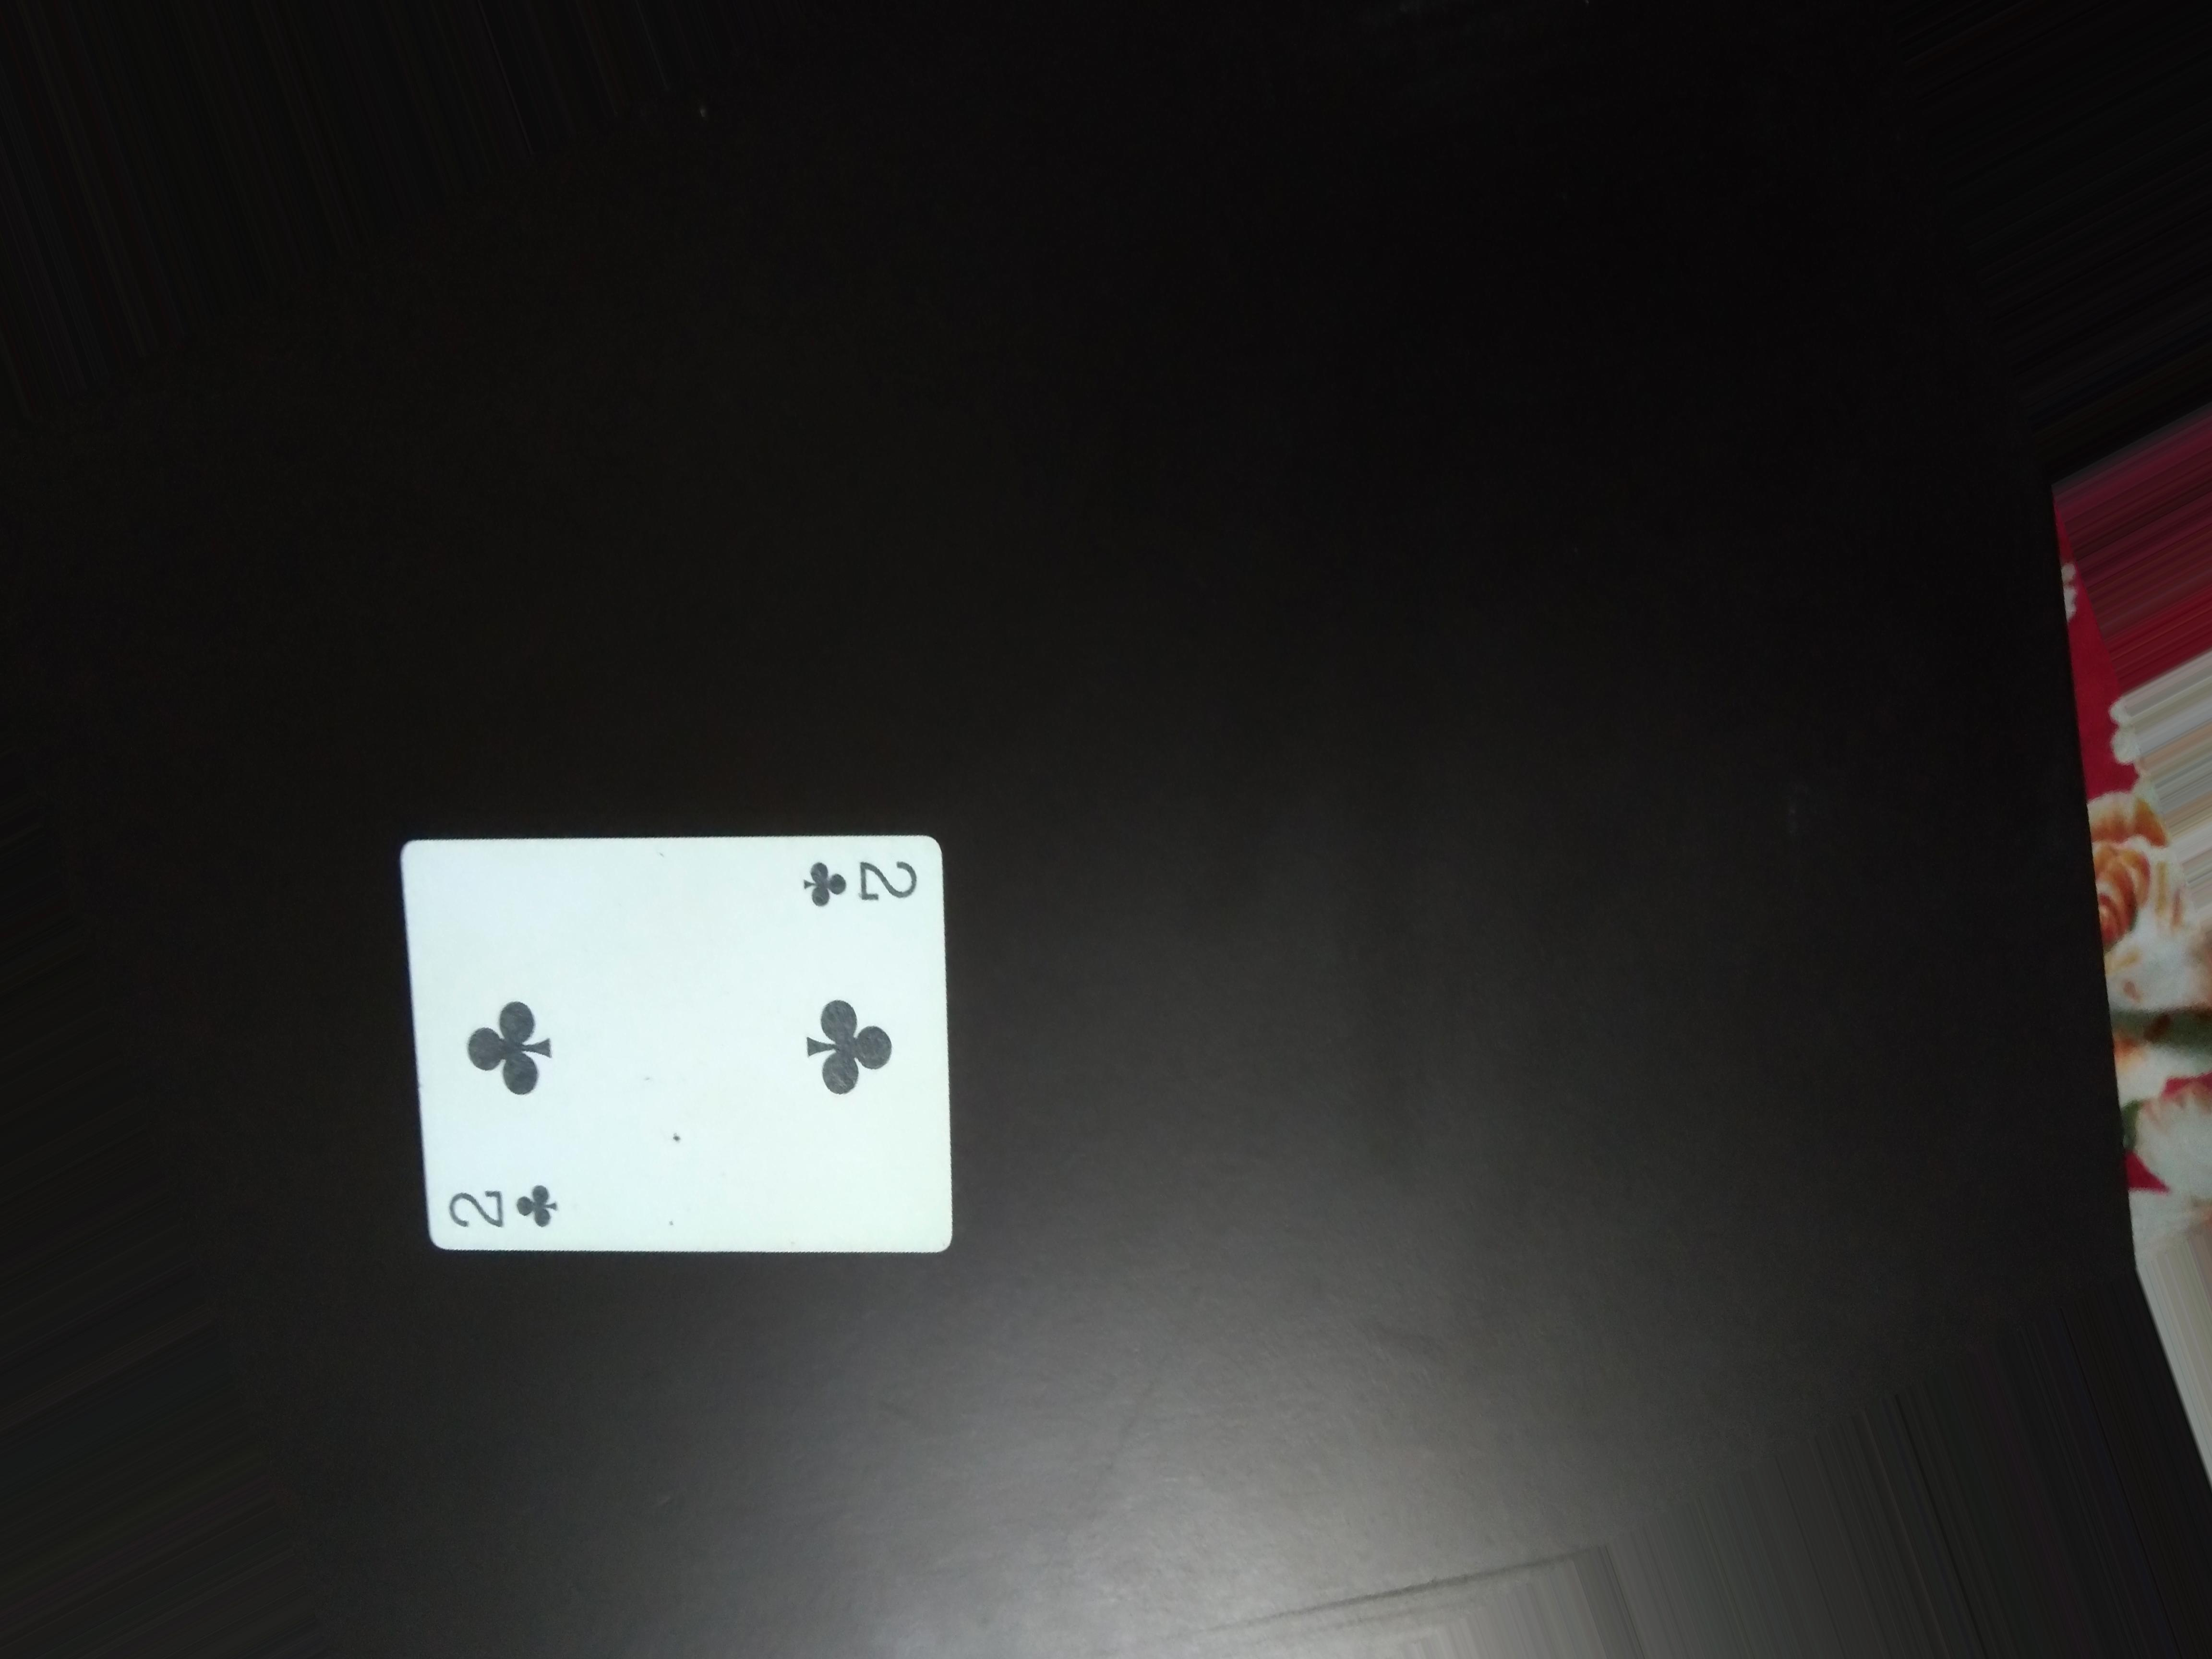2C: (434, 1171, 592, 1237)
